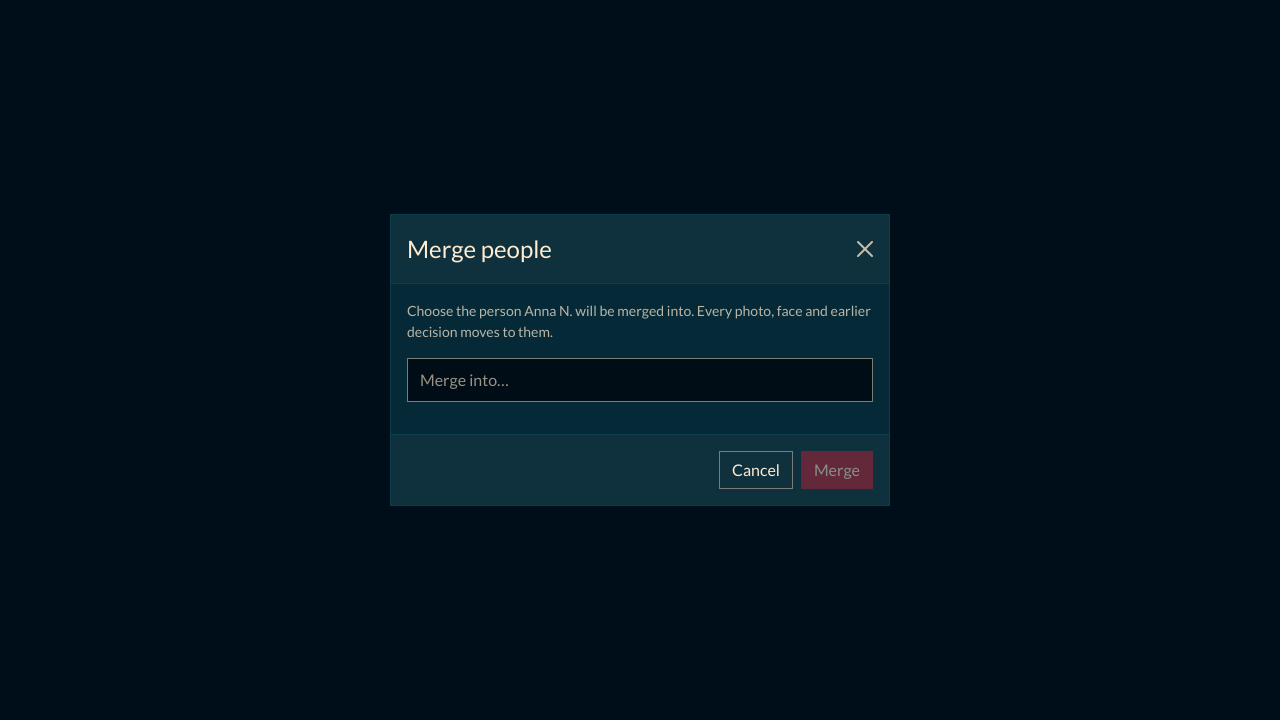
Test: MergeSubjectModal › keeps the dialog open with an error when the merge fails
Type "Ann" into the dropdown labelled "Merge into…" at (640, 380), box [407,358,873,402]
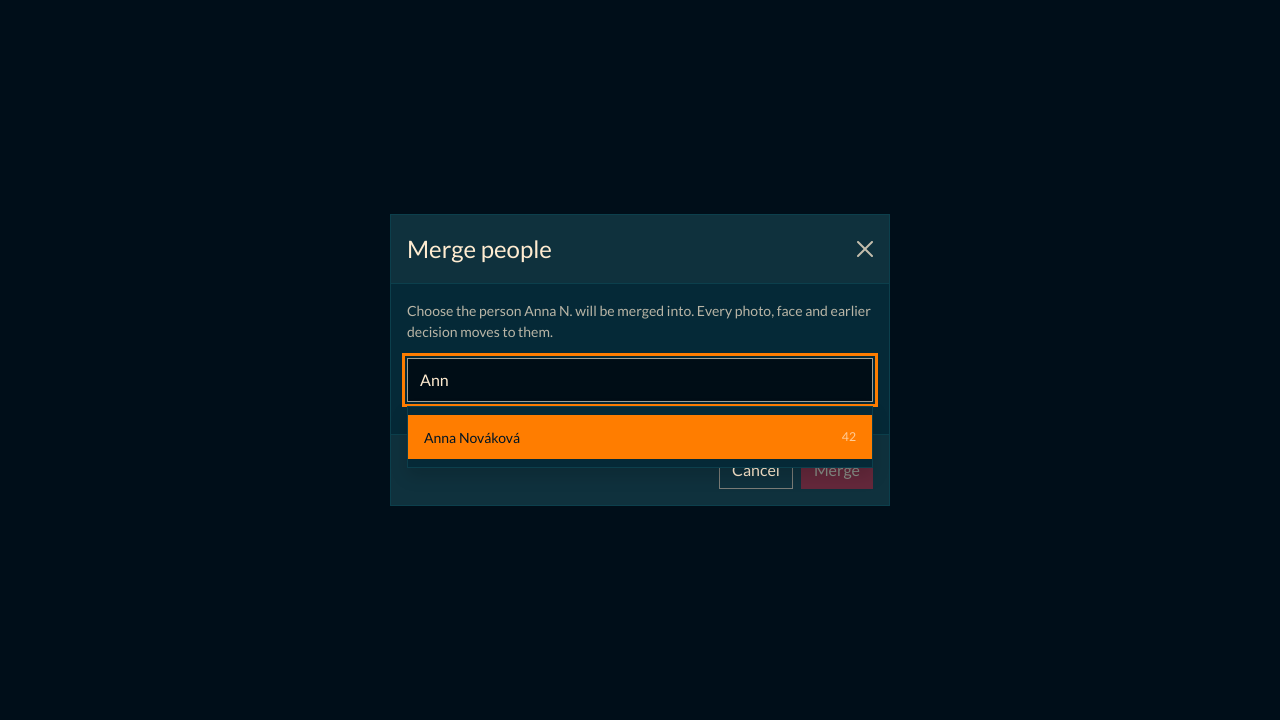
Click the option "Anna Nováková 42" at (472, 437), box [408,415,872,459]
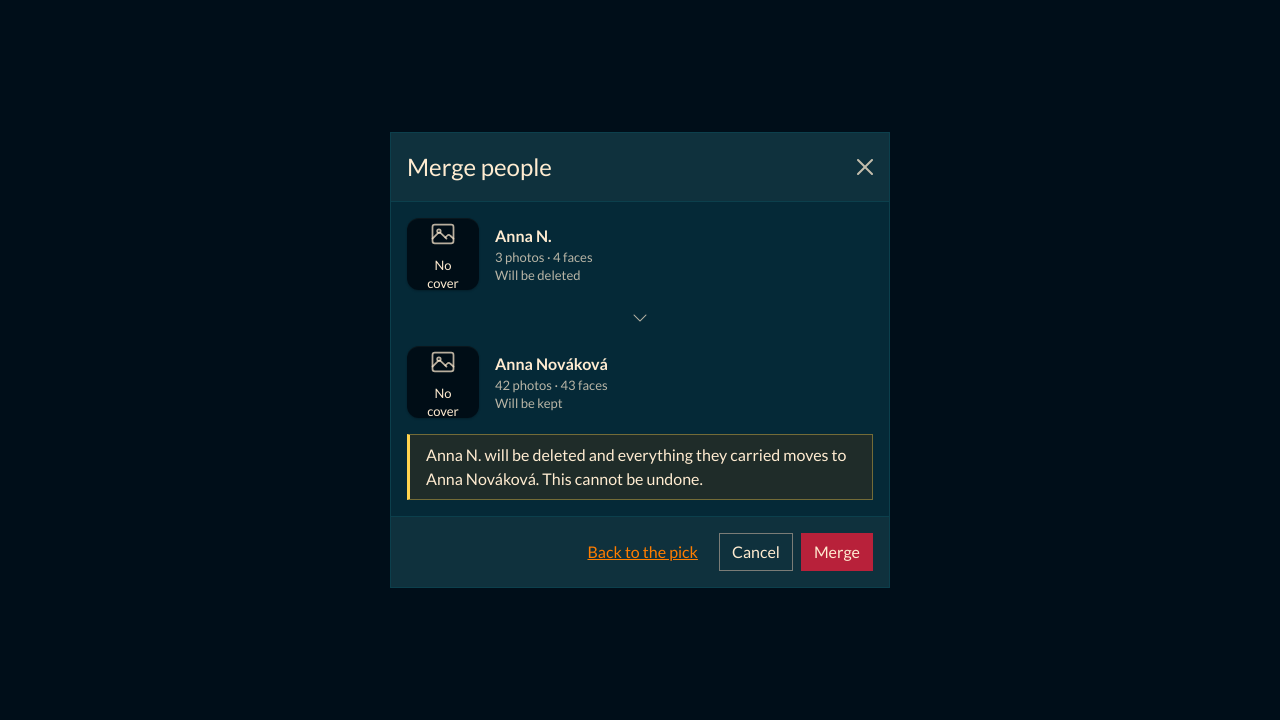
Click the button "Merge" at (837, 552), box [801,533,873,571]
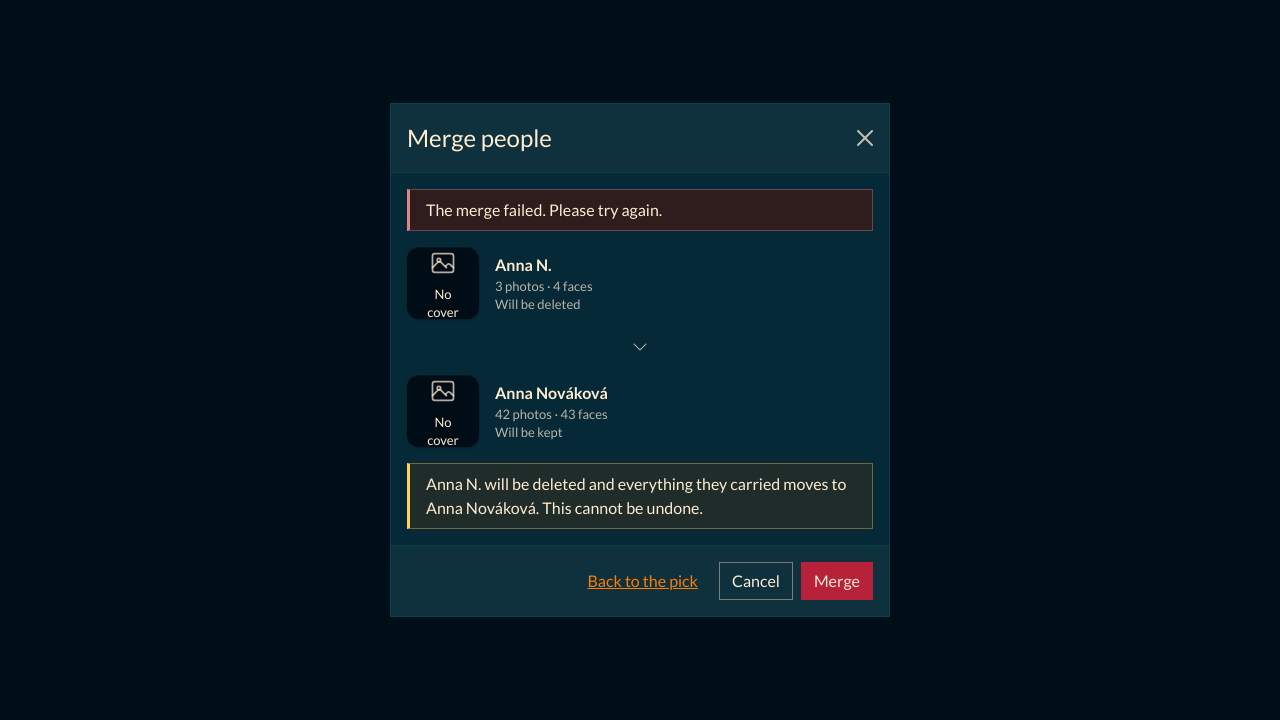
Check: the text "The merge failed. Please try again." is shown, box [407,189,873,231]
